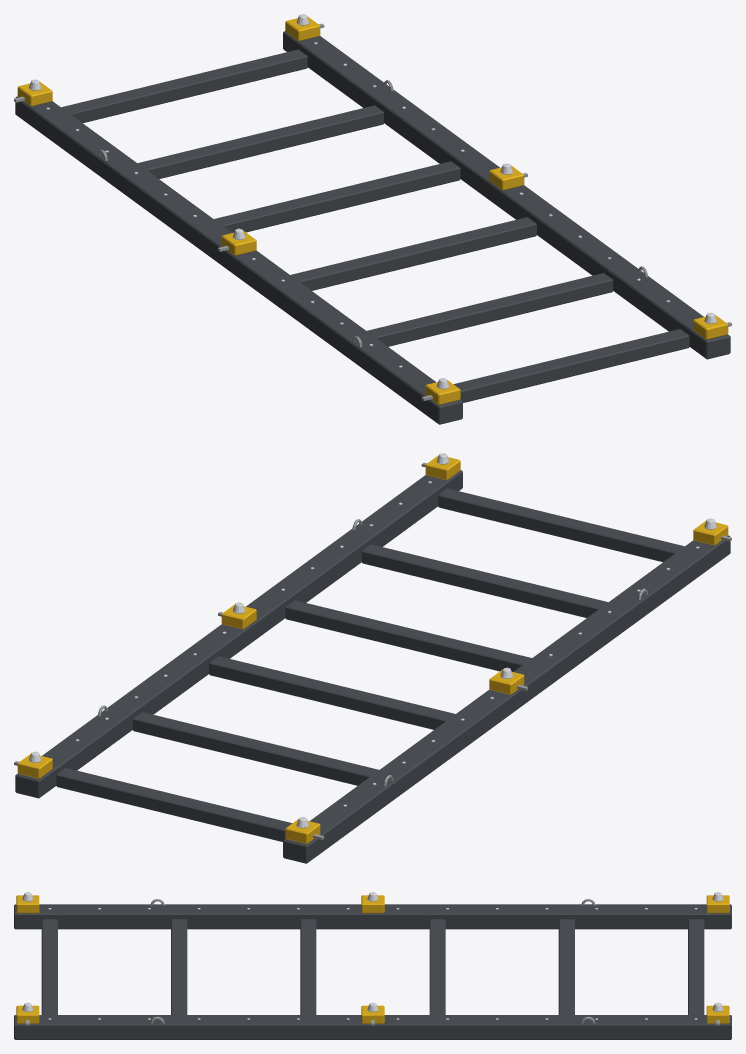
The model's file is container_mounting.glb.
The picture shows the model from 3 angles, top to bottom: view 1: azimuth 30°, elevation 25°; view 2: azimuth 150°, elevation 25°; view 3: azimuth 270°, elevation 25°; orthographic projection. The views are drawn at different scales.
Visible parts, largest first — view 1: container_mounting; view 2: container_mounting; view 3: container_mounting.
Part boxes in pixels (x1,y1,x2,y2): container_mounting: [14, 14, 731, 424]; container_mounting: [14, 453, 731, 863]; container_mounting: [14, 892, 731, 1039].
Size of the model in its own units: 2.6 by 0.3 by 6.2.
